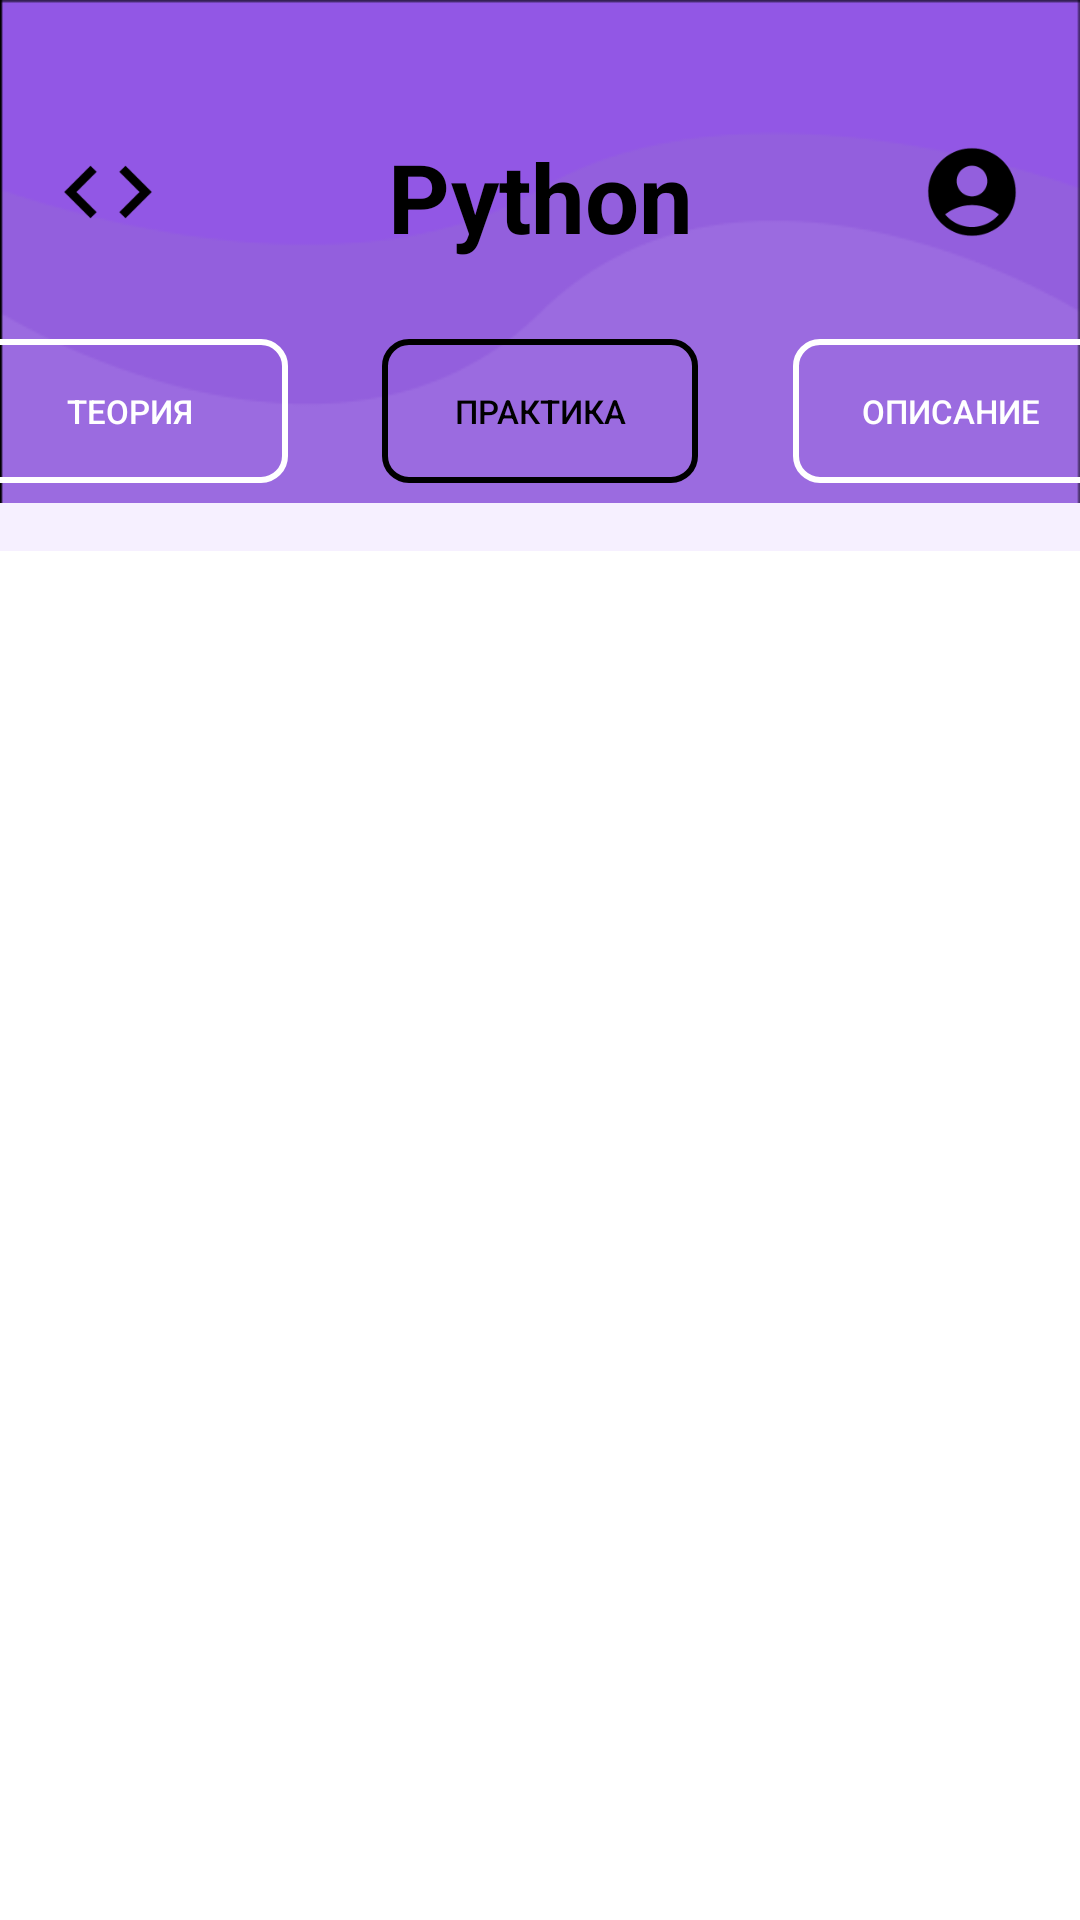

Icons on this 1080px×1920px Android screen, each with its box as (x1, y1, x2, y2):
code: (64, 166, 152, 219)
profile: (928, 148, 1016, 236)
